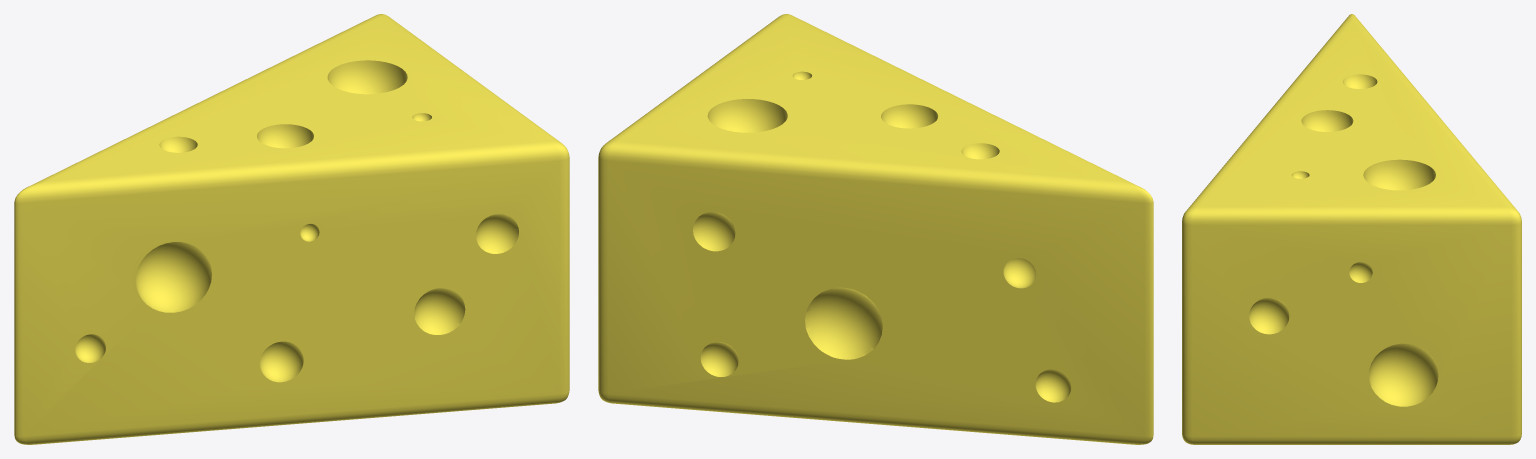
Rendered from cheese_beta.fbx.
The picture shows the model from 3 angles, left to right: view 1: azimuth 30°, elevation 25°; view 2: azimuth 150°, elevation 25°; view 3: azimuth 270°, elevation 25°; orthographic projection. The views are drawn at different scales.
Parts seen in each view (by area): view 1: Box002; view 2: Box002; view 3: Box002.
Boxes of the visible parts, bbox=[...] form: Box002: bbox=[14, 14, 569, 444]; Box002: bbox=[598, 14, 1153, 444]; Box002: bbox=[1182, 14, 1521, 444].
Size of the model in its own units: 77.92 by 41.78 by 54.48.
